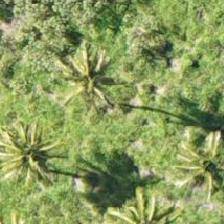coconut_tree: (47, 37, 137, 127), (0, 117, 66, 207)
